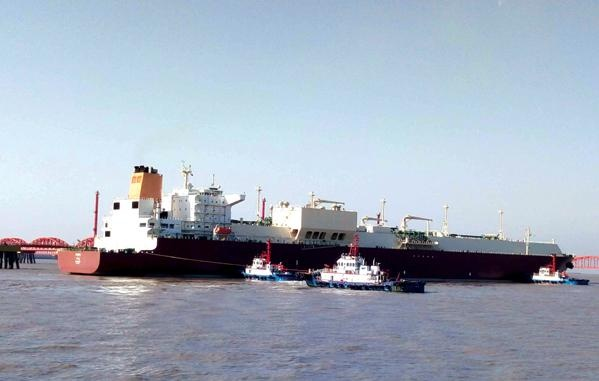Cargoship: (51, 159, 576, 277)
otherboat: (301, 240, 429, 295), (237, 238, 327, 282), (527, 252, 595, 286)
